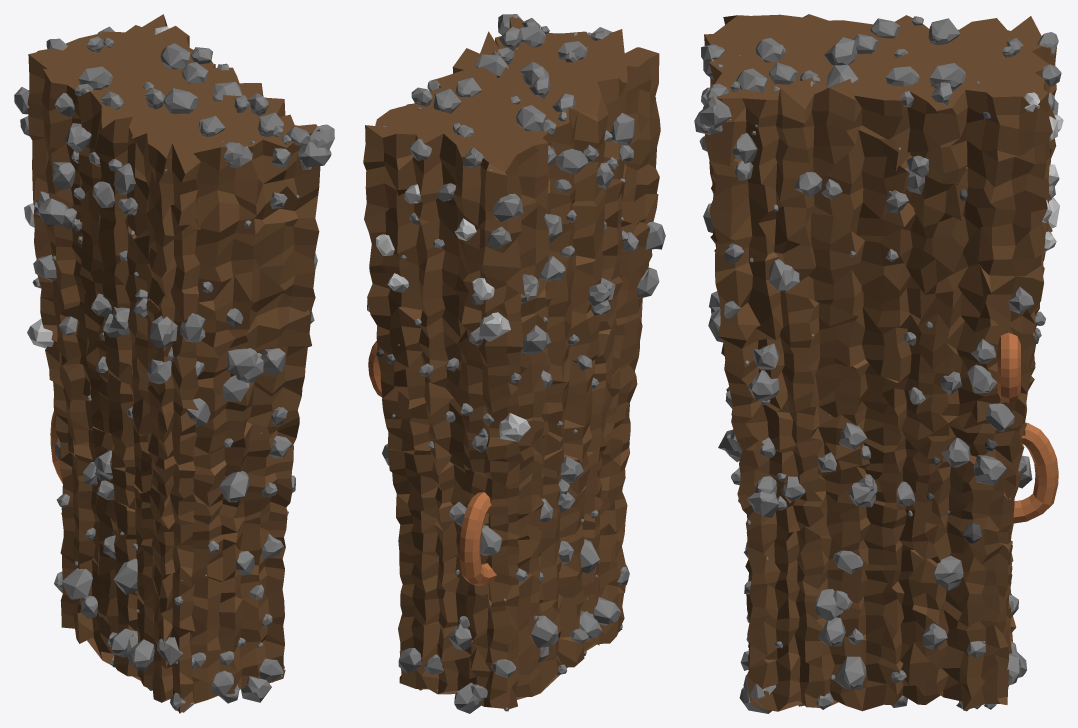
Rendered from wall.fbx.
3 views of the same model, side by side, from view 1: azimuth 30°, elevation 25°; view 2: azimuth 150°, elevation 25°; view 3: azimuth 270°, elevation 25° (orthographic). The views are drawn at different scales.
Visible parts, largest first — view 1: WALL; view 2: WALL, Vert.003, Vert.002; view 3: WALL, Vert.003, Vert.002.
Boxes of the visible parts, x1,y1,x2,y2 form: WALL: (14,14,334,713); WALL: (363,14,665,713); Vert.003: (459,492,496,586); Vert.002: (368,341,382,397); WALL: (694,14,1063,713); Vert.003: (1012,422,1058,523); Vert.002: (997,332,1020,403).
Size of the model in its own units: 5896 by 18516 by 9465.
